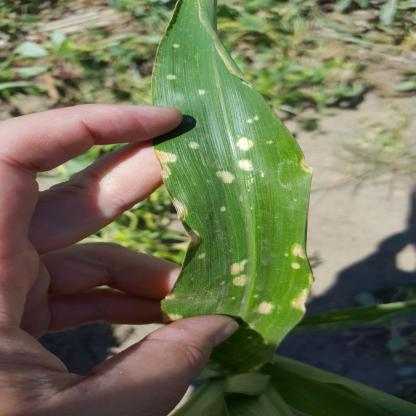corn leaf blight: (147, 2, 313, 315)
